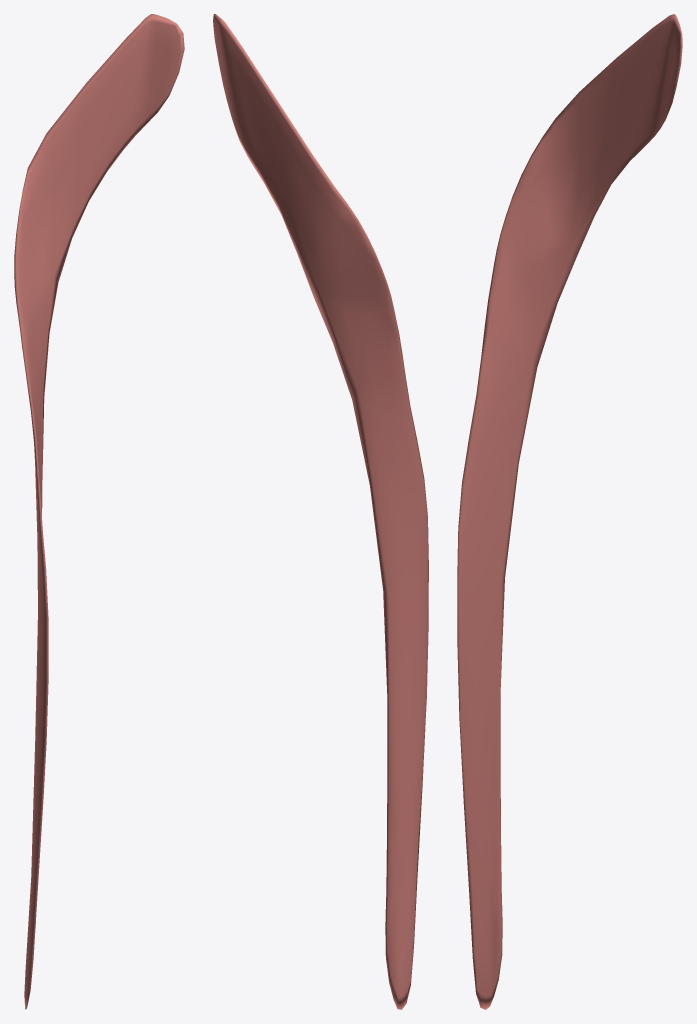
3 views of the same model, side by side, from view 1: azimuth 30°, elevation 25°; view 2: azimuth 150°, elevation 25°; view 3: azimuth 330°, elevation 25° (orthographic). The views are drawn at different scales.
Visible parts, largest first — view 1: ZA_7b34b2f76d78b017; view 2: ZA_7b34b2f76d78b017; view 3: ZA_7b34b2f76d78b017.
Part boxes in pixels (bbox=[...]): ZA_7b34b2f76d78b017: bbox=[14, 14, 184, 1009]; ZA_7b34b2f76d78b017: bbox=[213, 14, 428, 1009]; ZA_7b34b2f76d78b017: bbox=[457, 14, 682, 1009].
Bounding box in the file's own units: 0.0254 × 0.1314 × 0.0146.
